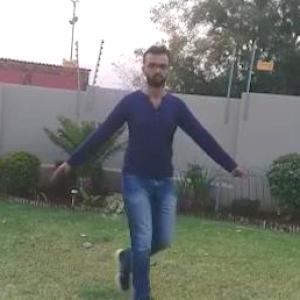land: (56, 44, 242, 297)
